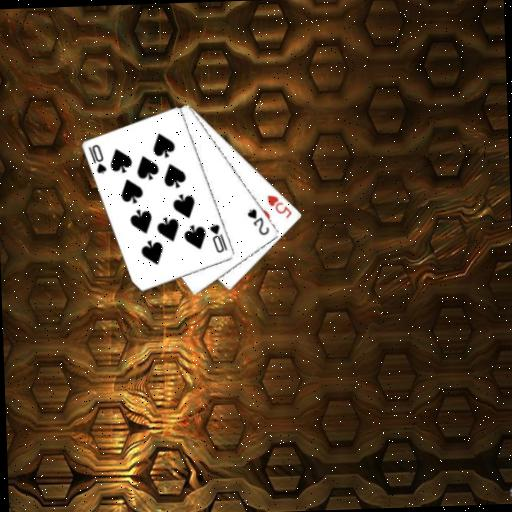10S: (85, 141, 108, 176), (207, 220, 230, 254)
2S: (244, 205, 272, 238)
5H: (264, 191, 294, 220)
